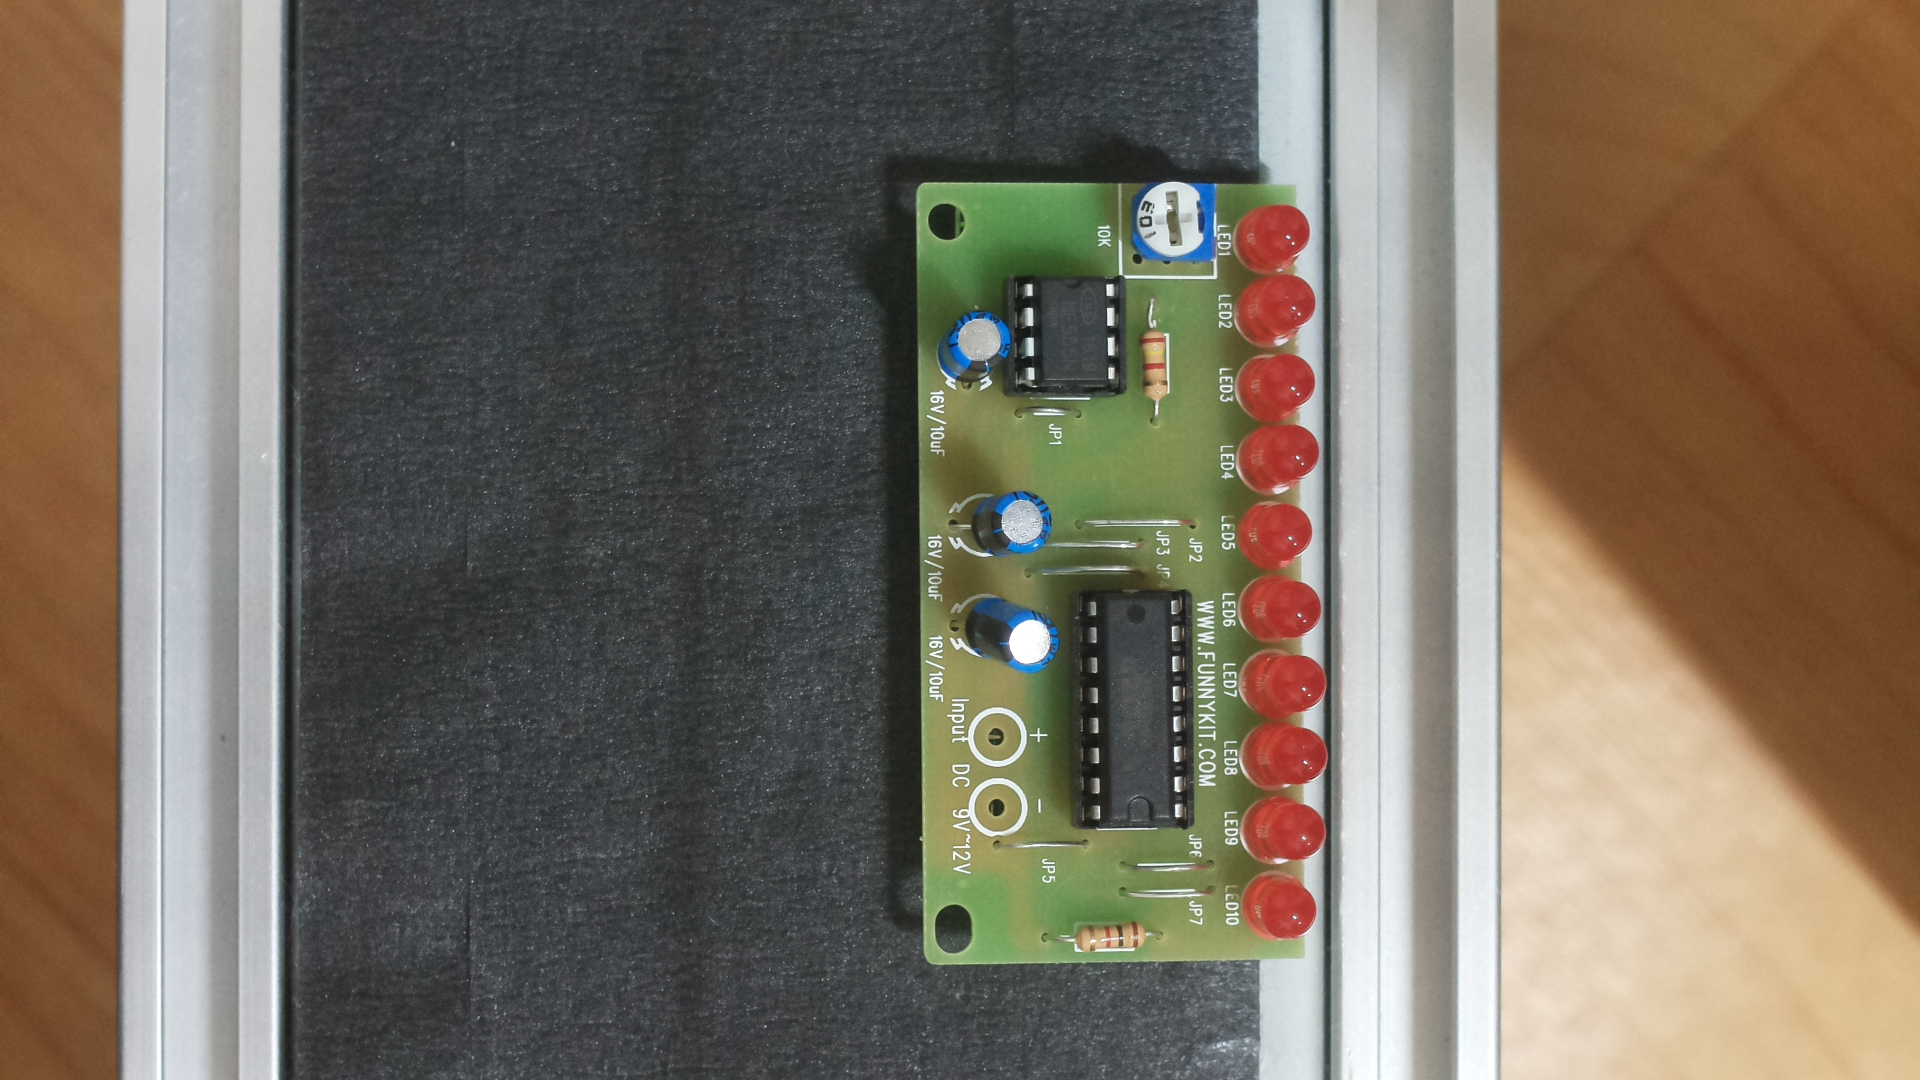B_Normal: (897, 156, 1337, 993)
